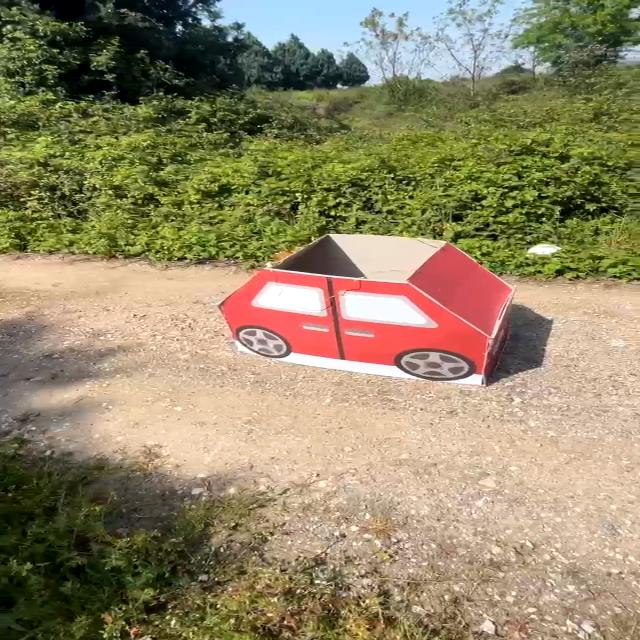red_car: (197, 220, 557, 387)
